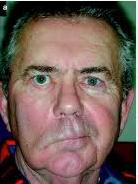strokeEyeWeak: (21, 64, 117, 93)
strokeMouthWeak: (47, 124, 96, 150)
